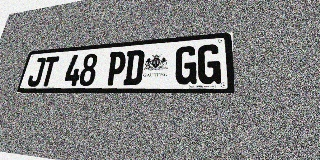4: (63, 54, 84, 86)
8: (78, 53, 99, 86)
D: (123, 50, 145, 85)
G: (197, 44, 221, 84), (174, 45, 197, 85)
J: (26, 57, 46, 87)
P: (105, 51, 127, 86)
T: (39, 56, 59, 86)
